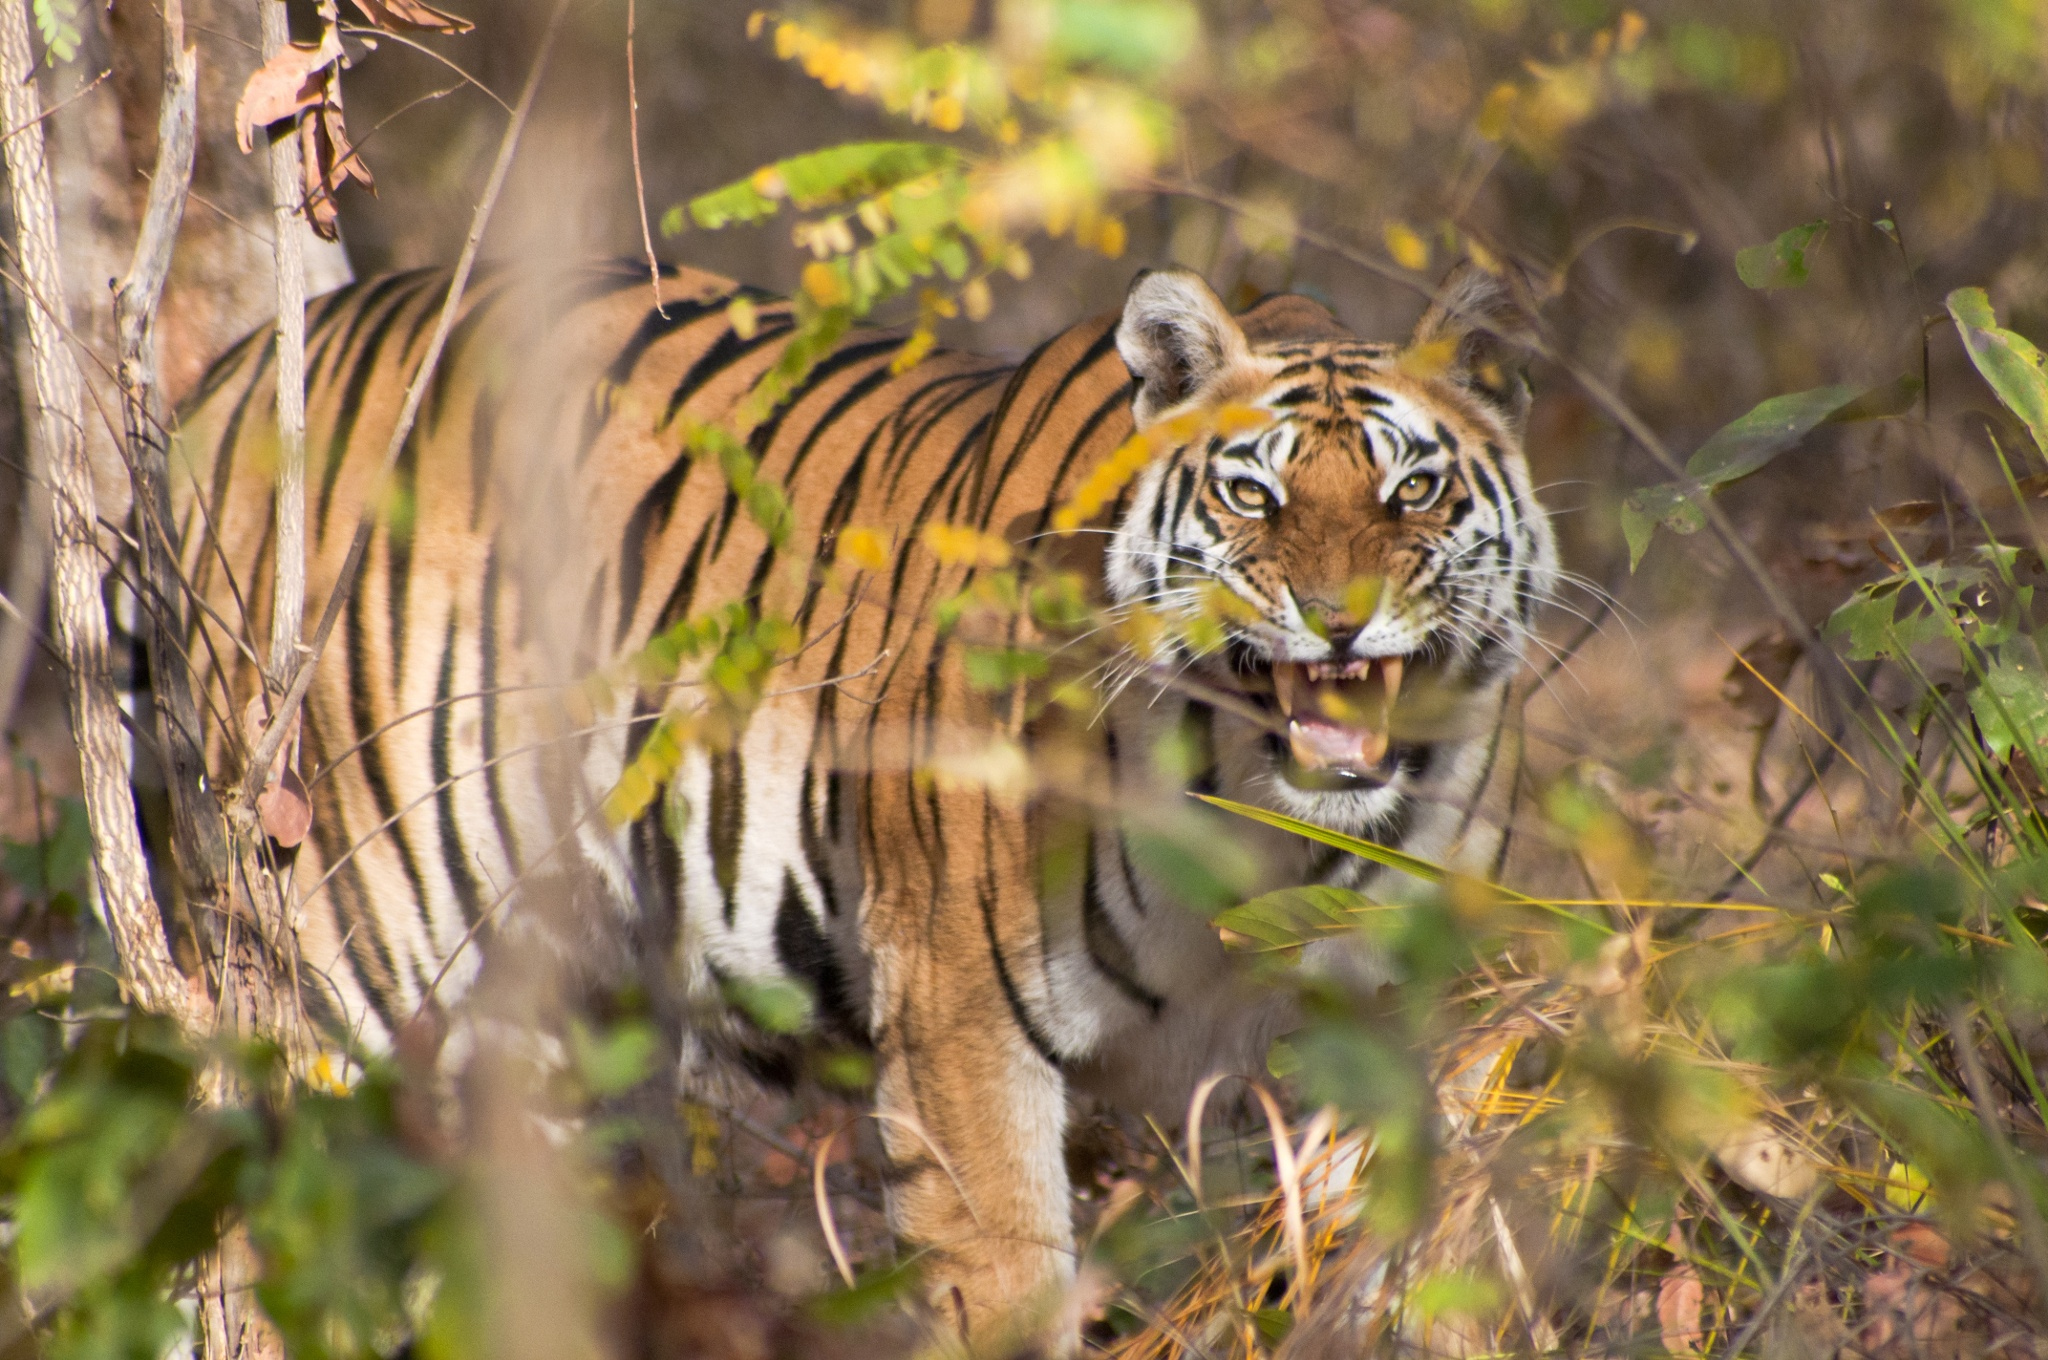tiger: (144, 219, 1556, 1292)
